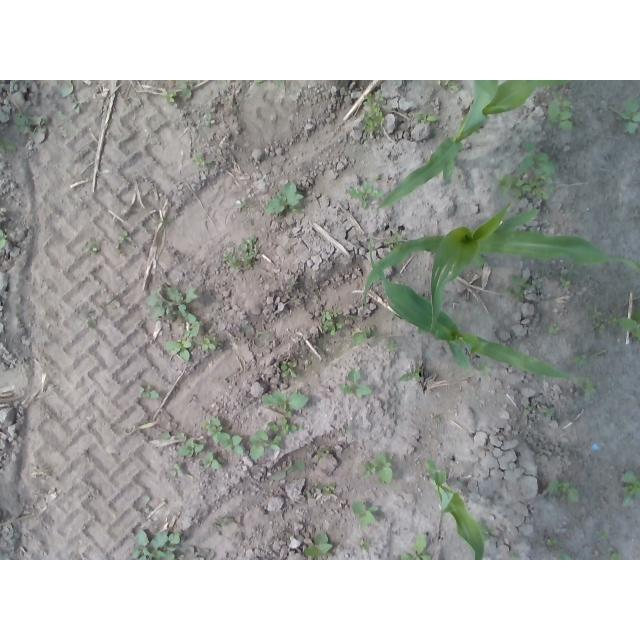Maize: (360, 202, 640, 334), (362, 237, 587, 387), (377, 80, 575, 209), (424, 458, 485, 560)
Weeds: (496, 140, 557, 200), (249, 418, 297, 461), (146, 285, 198, 324), (204, 417, 245, 456), (163, 322, 201, 363), (131, 529, 181, 560), (265, 180, 304, 216), (262, 390, 311, 418), (222, 235, 258, 273), (361, 88, 386, 140), (545, 90, 574, 131), (360, 452, 394, 485), (585, 304, 619, 337), (348, 180, 385, 208), (340, 367, 372, 398), (617, 98, 640, 135), (502, 274, 531, 302), (399, 536, 431, 561), (12, 111, 48, 133), (546, 478, 579, 502), (304, 532, 333, 558), (352, 500, 376, 530), (176, 432, 203, 457), (272, 460, 304, 481), (621, 471, 640, 506), (320, 310, 345, 336), (620, 308, 640, 340), (353, 329, 380, 346), (398, 365, 422, 383), (578, 377, 596, 398), (200, 452, 222, 469), (383, 231, 403, 249), (158, 424, 179, 441), (413, 113, 439, 126), (197, 335, 218, 351), (136, 385, 160, 399), (558, 271, 574, 291), (477, 521, 493, 541), (476, 361, 493, 379), (56, 80, 75, 96), (177, 80, 191, 101), (281, 361, 298, 378), (436, 80, 460, 92), (168, 464, 187, 479), (313, 482, 336, 494), (568, 352, 589, 365), (193, 154, 212, 167), (160, 89, 176, 104), (359, 537, 374, 551), (541, 405, 556, 419), (608, 548, 624, 561), (0, 140, 16, 152), (203, 112, 216, 126), (82, 243, 98, 254), (241, 324, 255, 334), (70, 100, 81, 112), (387, 340, 398, 352), (86, 319, 99, 329), (548, 325, 561, 335), (117, 231, 129, 241), (0, 230, 6, 250), (556, 553, 573, 560), (318, 447, 329, 457), (547, 538, 560, 546), (509, 549, 519, 559), (342, 423, 351, 433), (524, 403, 533, 411), (600, 530, 609, 538), (274, 80, 285, 86), (238, 205, 243, 212), (253, 81, 264, 84)
